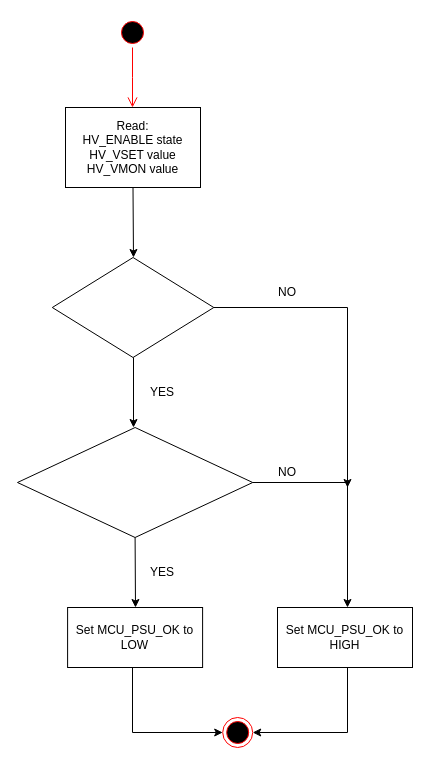
This 430x765 diagram has some shape labels left out. The centre of each missing label's shape, as x and y in pixels:
Is HV_ENABLE HIGH?: the point at 132,307
Is HV_VMON = HV_VSET(1 +- 1%)?: the point at 134,482
